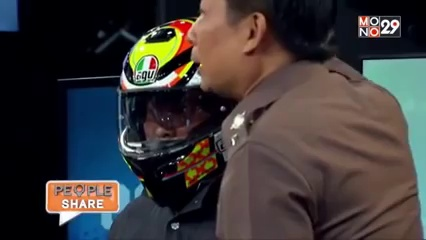helmet: (114, 21, 229, 198)
